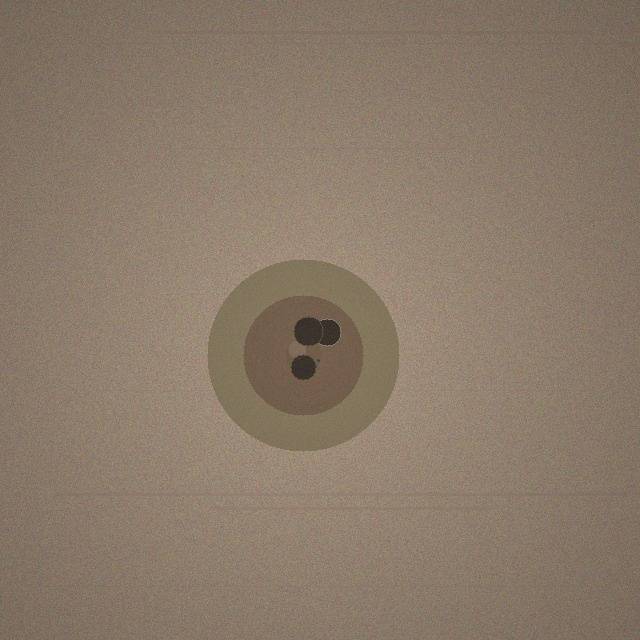shrinkage: (207, 259, 399, 451)
